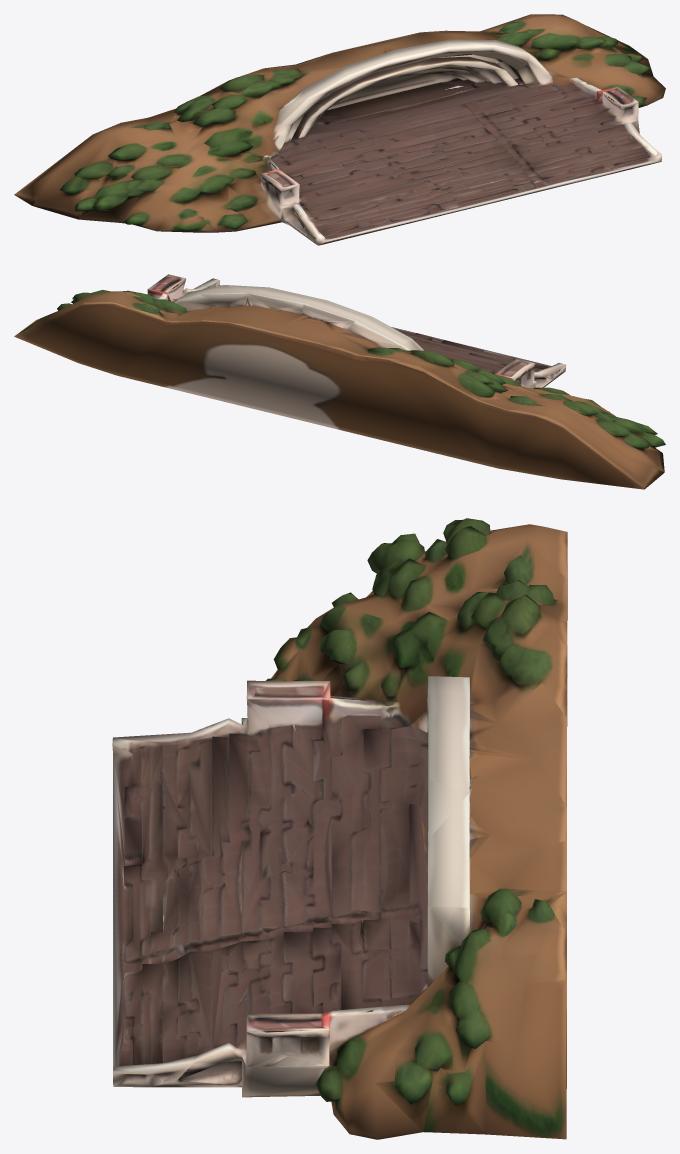
The model's file is BD_HollywoodBowl.fbx.
3 views of the same model, one above another, from view 1: azimuth 30°, elevation 25°; view 2: azimuth 150°, elevation 25°; view 3: azimuth 270°, elevation 25° (orthographic). The views are drawn at different scales.
Visible parts, largest first — view 1: model; view 2: model; view 3: model.
Part boxes in pixels (x1=…): model: x1=14, y1=14, x2=665, y2=245; model: x1=14, y1=274, x2=665, y2=489; model: x1=112, y1=518, x2=567, y2=1139.
Size of the model in its own units: 100 by 32 by 14.
1 material, 1 textured.
